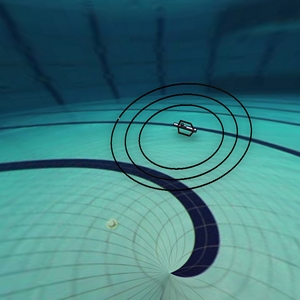circle: (106, 64, 257, 199)
submarine: (162, 113, 207, 149)
